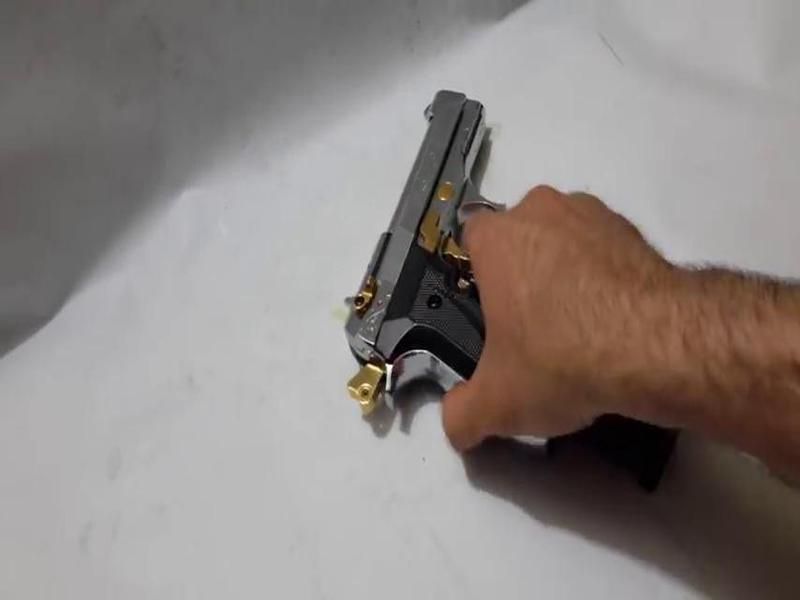Pistola: (348, 74, 556, 440)
